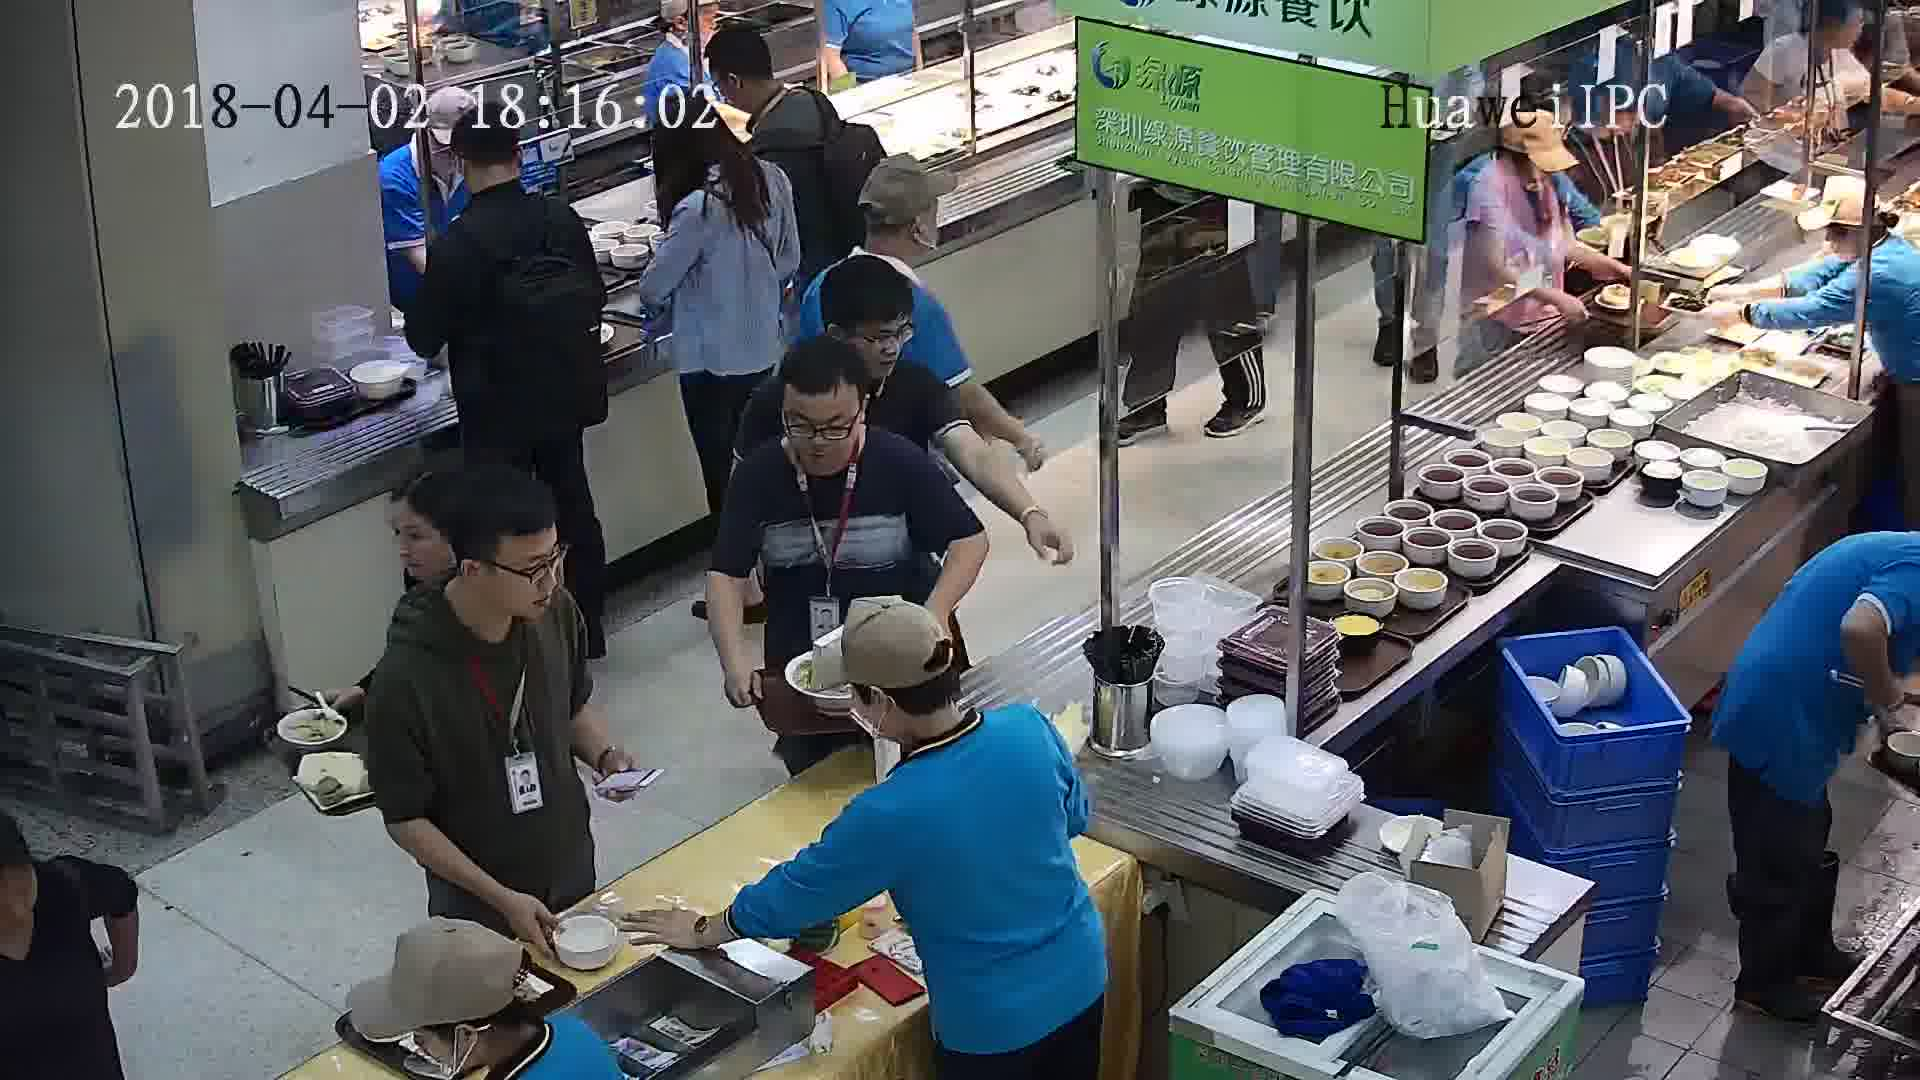face: (775, 383, 868, 475), (374, 499, 462, 587), (477, 534, 563, 620)
person: (802, 587, 1078, 850), (371, 458, 578, 719), (722, 334, 940, 518), (794, 155, 968, 325), (785, 262, 948, 415), (1, 791, 109, 1010), (434, 111, 585, 265), (700, 28, 842, 150), (653, 117, 795, 236), (1801, 178, 1920, 299), (382, 89, 483, 209), (1769, 4, 1873, 83)
